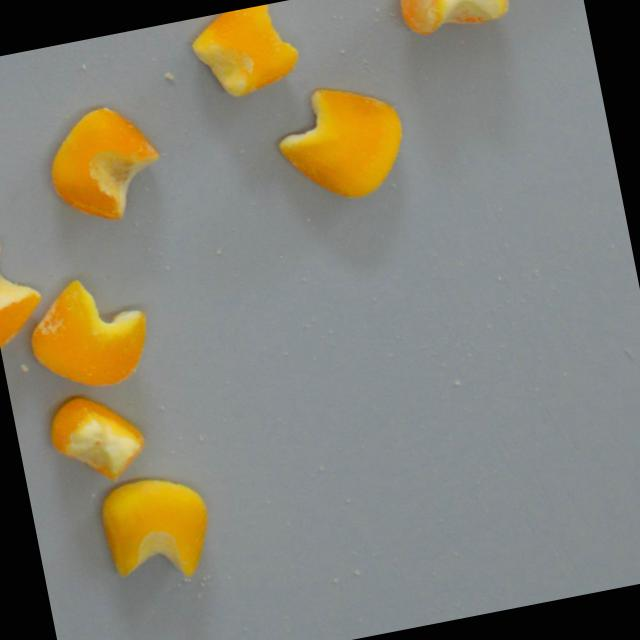dañado: (39, 98, 173, 233)
no_canjicado: (267, 75, 415, 212), (96, 469, 219, 592), (0, 229, 51, 352)
no_desgerminado: (42, 386, 152, 494)
pelicula: (18, 268, 159, 401), (187, 0, 304, 105), (398, 0, 514, 39)
